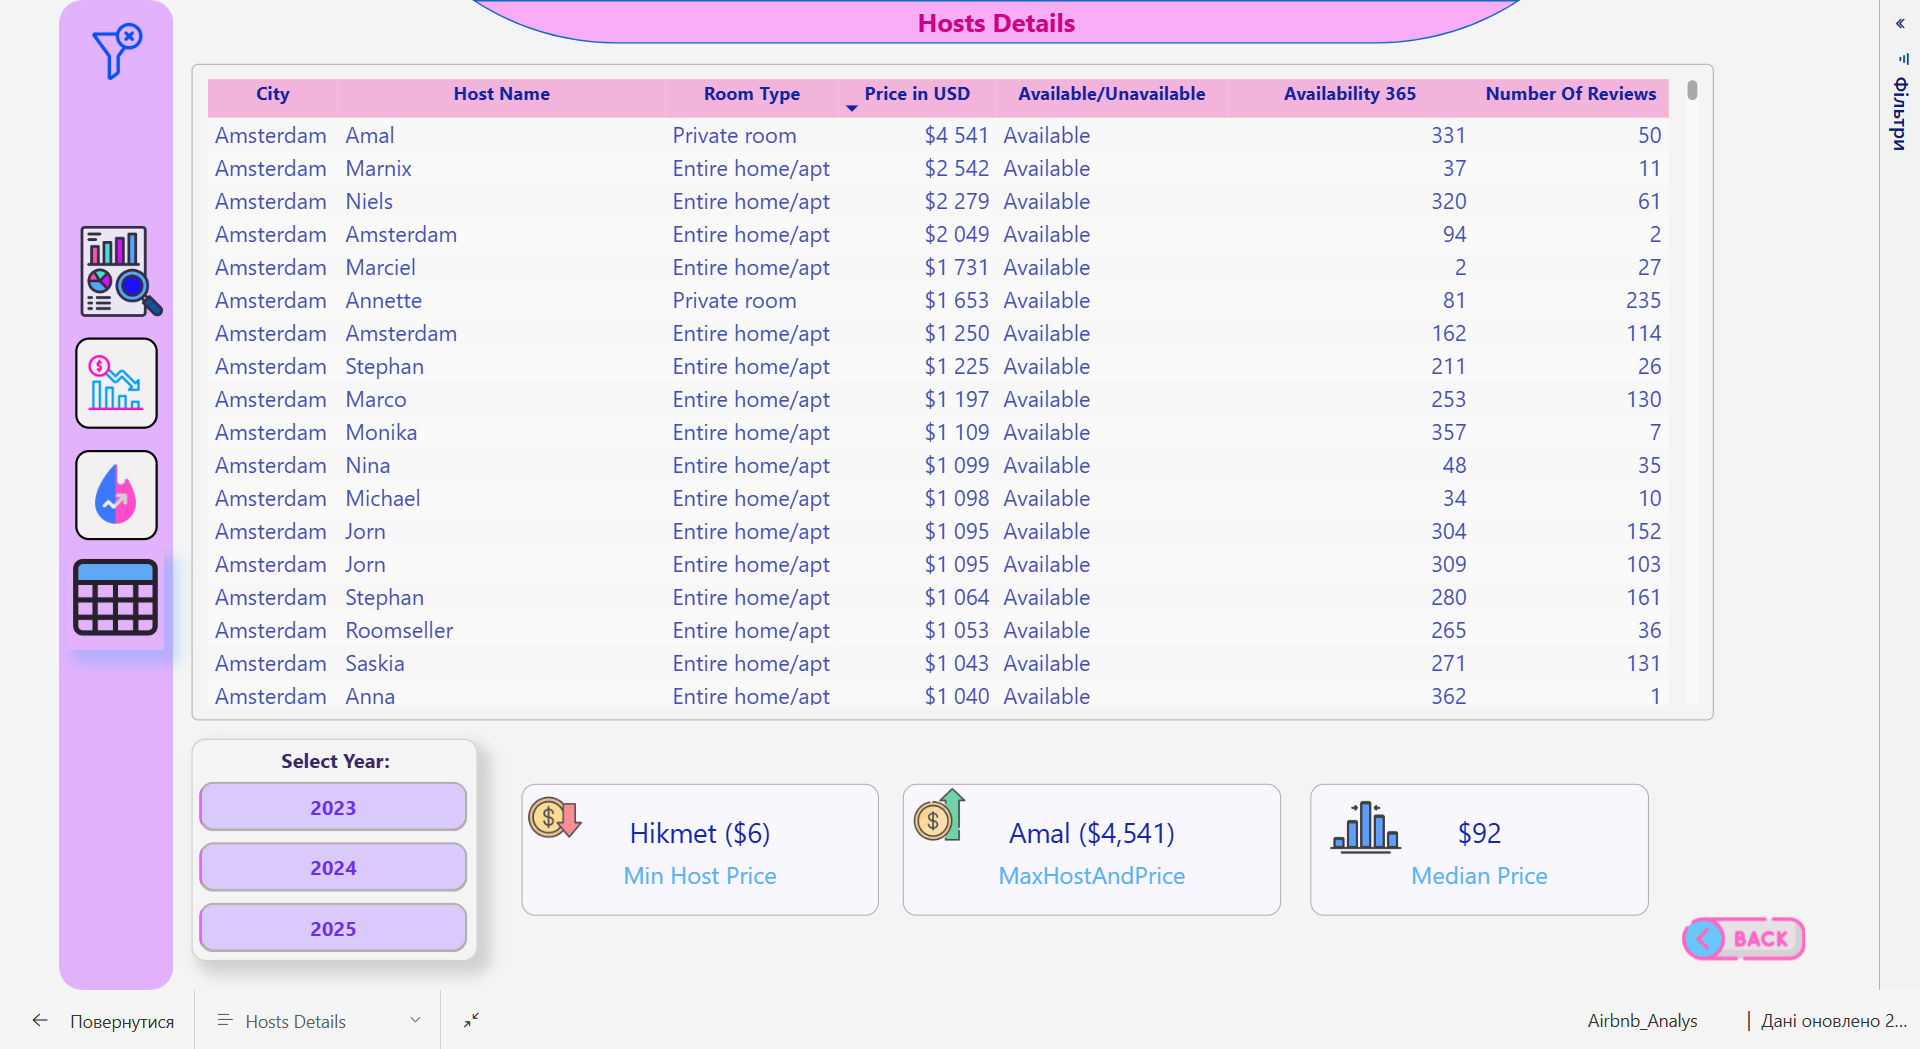

The page's visual inventory and layout, read from the dashboard file:
{"tool":"powerbi","page":{"name":"Hosts Details","canvas":[1280,720],"ordinal":3},"visuals":[{"type":"actionButton","box":[1170,626,110,82],"z":0},{"type":"tableEx","fields":{"Values":["Listings5City.City","Listings5City.host_name","Listings5City.room_type","Sum(Listings5City.PriceInUSD)","Min(Listings5City.Available/Unavailable)","Listings5City.availability_365","_measures.NumberOfReviews"]},"box":[96.1,46.7,1107.4,477.5],"z":1000},{"type":"advancedSlicerVisual","title":"Select Year:","fields":{"Values":["Calendar.Year"]},"box":[96.3,537.3,208,161.8],"z":2000},{"type":"card","fields":{"Values":["_measures.MinHostInfo"]},"box":[336,570,260,96.3],"z":2000,"group":"g1"},{"type":"shape","box":[0,0,83.3,720],"z":3000},{"type":"card","fields":{"Values":["_measures.MaxHostAndPrice"]},"box":[613.3,570,275.4,96.3],"z":3000,"group":"g1"},{"type":"image","box":[7,151,77,93],"z":4000},{"type":"image","box":[11.7,245,60,66.7],"z":5000},{"type":"image","box":[11.5,326.9,60,65.4],"z":6000},{"type":"image","box":[5.3,401.3,71.3,72],"z":7000},{"type":"group","id":"g1","title":"Group 1","box":[336,570,820,96],"z":8000},{"type":"image","box":[613.4,568.1,53.5,48],"z":9000},{"type":"card","fields":{"Values":["_measures.MedianPrice"]},"box":[909.9,570,246.5,96.3],"z":9001,"group":"g1"},{"type":"image","box":[336.2,562.6,49.4,63.1],"z":10000},{"type":"image","box":[909.8,570.8,81,61.7],"z":11000},{"type":"shape","box":[215.8,0,932.5,31.7],"z":12000},{"type":"textbox","box":[454,0,456,48],"z":13000},{"type":"image","box":[7.1,12.1,70.7,51.4],"z":14000}]}

Visuals, with their boxes on the page's 1280x720 design canvas (x1, y1, x2, y2). These are canvas units, not pixel positions in the 1920x1049 screenshot, which may show the page scaled, cropped or inside an application window:
actionButton: 1170:626:1280:708
tableEx - Listings5City.City x Listings5City.host_name: 96:47:1204:524
"Select Year:" advancedSlicerVisual: 96:537:304:699
card - _measures.MinHostInfo: 336:570:596:666
shape: 0:0:83:720
card - _measures.MaxHostAndPrice: 613:570:889:666
image: 7:151:84:244
image: 12:245:72:312
image: 12:327:72:392
image: 5:401:77:473
"Group 1" group: 336:570:1156:666
image: 613:568:667:616
card - _measures.MedianPrice: 910:570:1156:666
image: 336:563:386:626
image: 910:571:991:632
shape: 216:0:1148:32
textbox: 454:0:910:48
image: 7:12:78:64
